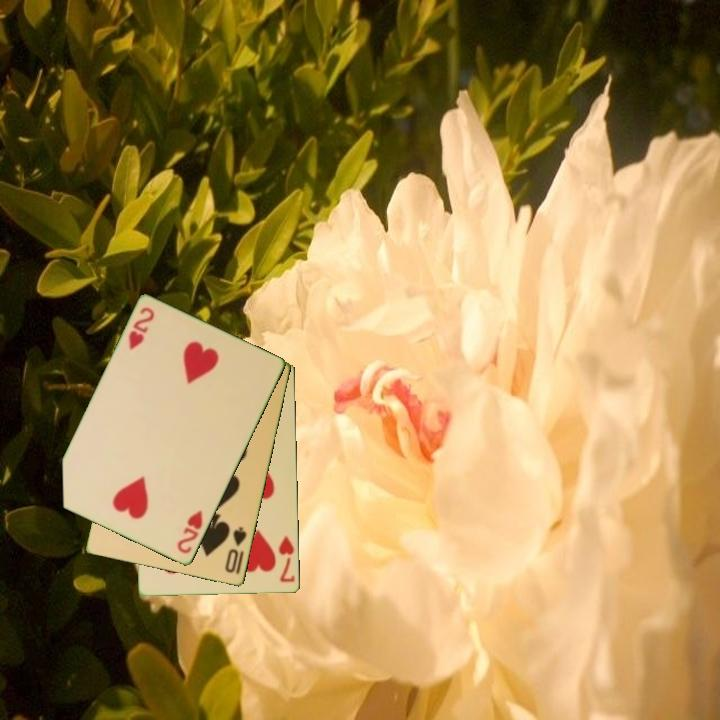10s: (222, 524, 250, 576)
2h: (174, 507, 206, 557), (125, 304, 157, 353)
7h: (276, 532, 298, 585)
